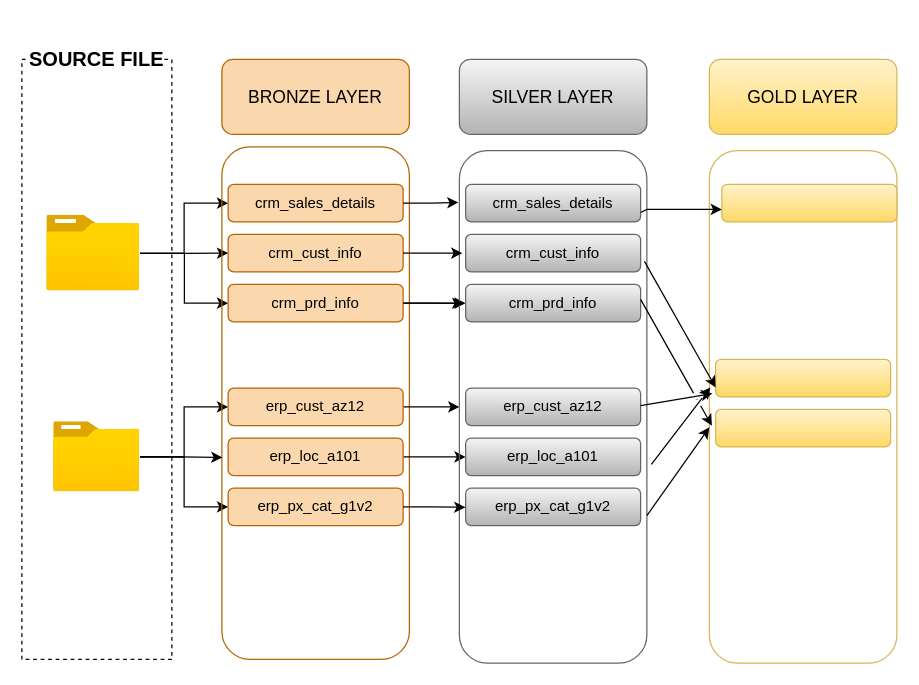
This 919x685 diagram has some shape labels left out. The box of each missing label's shape, as (x1, y1, x2, y2) in pixels:
CRM: (46, 215, 139, 290)
dim_customers: (714, 358, 891, 397)
dim_products: (714, 408, 891, 447)
EPR: (53, 421, 139, 491)
fact_sales: (721, 183, 897, 222)
